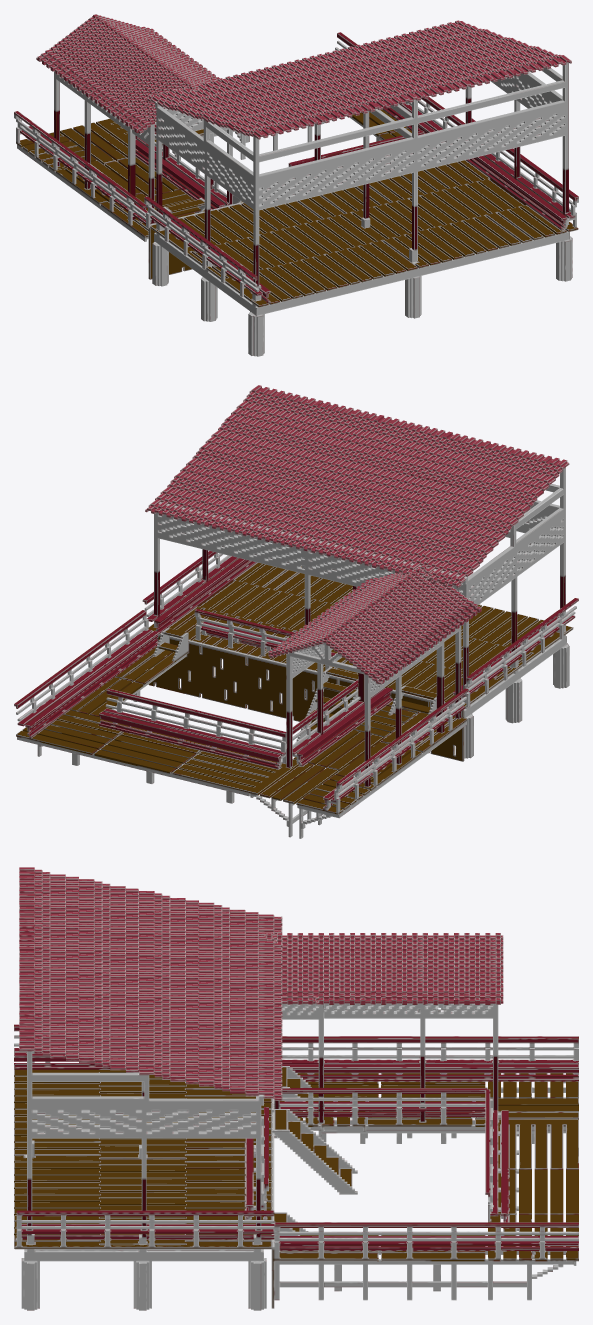
File: Restaurante.fbx
3 views of the same model, one above another, from view 1: azimuth 30°, elevation 25°; view 2: azimuth 150°, elevation 25°; view 3: azimuth 270°, elevation 25° (orthographic). The views are drawn at different scales.
Visible parts, largest first — view 1: Restaurante.001; view 2: Restaurante.001; view 3: Restaurante.001.
Boxes of the visible parts, x1,y1,x2,y2 form: Restaurante.001: (14,14,578,356); Restaurante.001: (14,385,578,838); Restaurante.001: (14,867,578,1310).
Size of the model in its own units: 17.6 by 11.1 by 21.7.
Materials: 1 (1 with a texture image).
